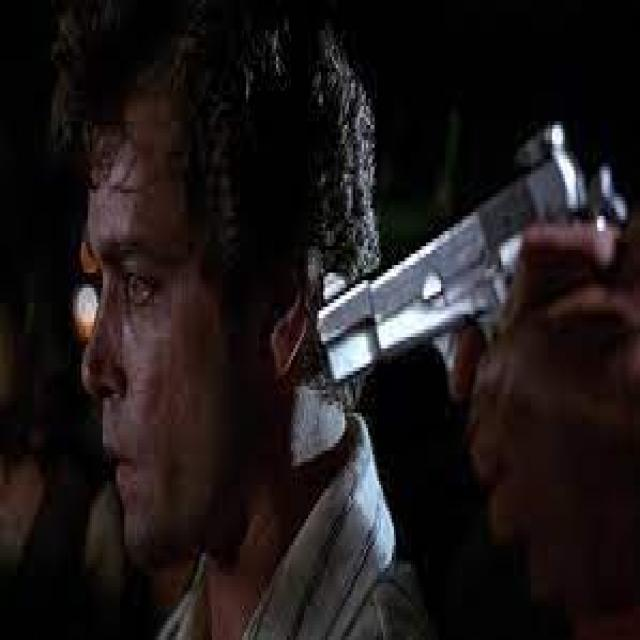weapons: (306, 85, 626, 442)
